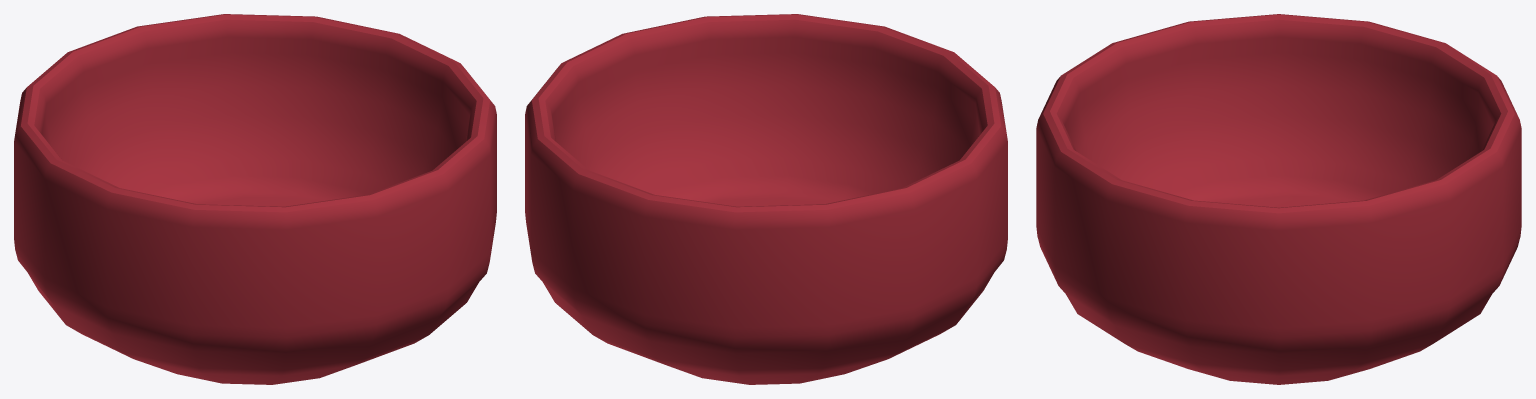
The model's file is Tigela.fbx.
3 views of the same model, side by side, from view 1: azimuth 30°, elevation 25°; view 2: azimuth 150°, elevation 25°; view 3: azimuth 270°, elevation 25° (orthographic).
Parts seen in each view (by area): view 1: Cylinder; view 2: Cylinder; view 3: Cylinder.
Boxes of the visible parts, box(x1,y1,x2,y2) form: Cylinder: box(14, 14, 496, 384); Cylinder: box(525, 14, 1007, 384); Cylinder: box(1036, 14, 1521, 384).
Size of the model in its own units: 17.52 by 8.73 by 17.52.
